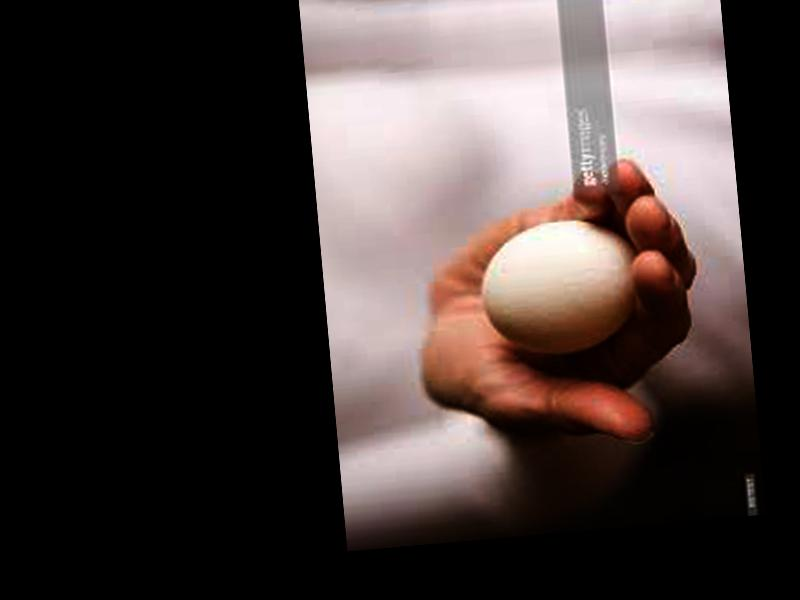Eggs: (478, 215, 643, 362)
